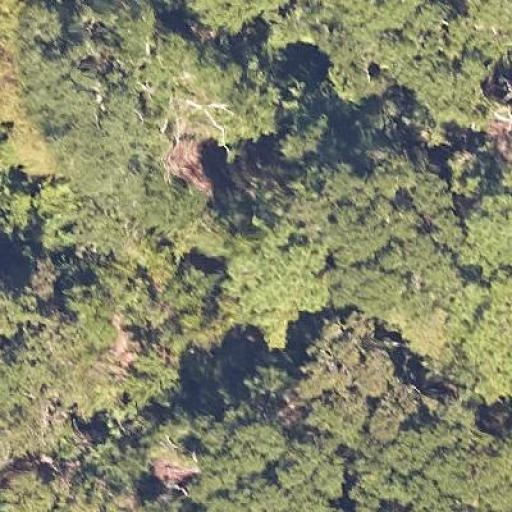tree-top: (16, 0, 162, 202), (272, 0, 510, 123), (320, 158, 470, 322), (0, 278, 126, 418), (142, 26, 286, 147), (175, 414, 351, 510), (350, 410, 510, 510), (298, 314, 416, 444), (216, 225, 329, 325), (443, 270, 511, 408), (73, 427, 146, 510), (120, 171, 210, 235), (144, 258, 213, 339), (6, 182, 84, 250), (461, 184, 511, 273), (270, 102, 332, 162), (3, 460, 61, 509)
